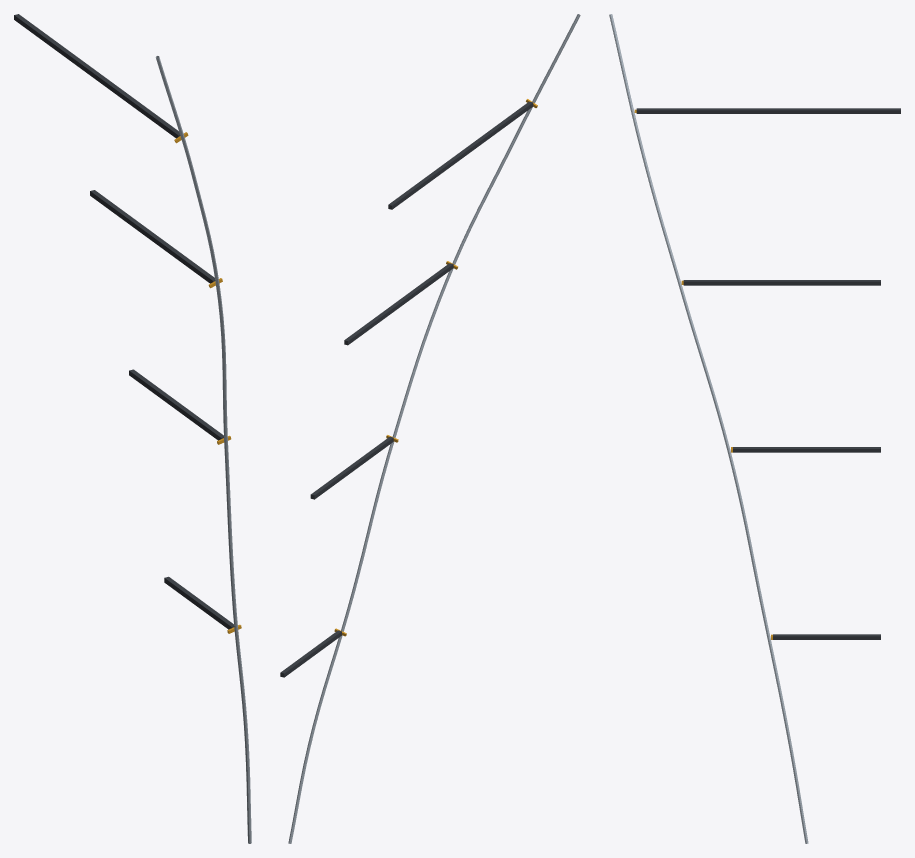
File: rail_ritorno.obj
The picture shows the model from 3 angles, left to right: view 1: azimuth 30°, elevation 25°; view 2: azimuth 150°, elevation 25°; view 3: azimuth 270°, elevation 25°; orthographic projection. The views are drawn at different scales.
Visible parts, largest first — view 1: rail_ritorno; view 2: rail_ritorno; view 3: rail_ritorno.
Part boxes in pixels (x1,y1,x2,y2): rail_ritorno: (14,14,251,843); rail_ritorno: (280,14,580,843); rail_ritorno: (609,14,900,843).
Bounding box in the file's own units: 15.24 × 62.08 × 22.
